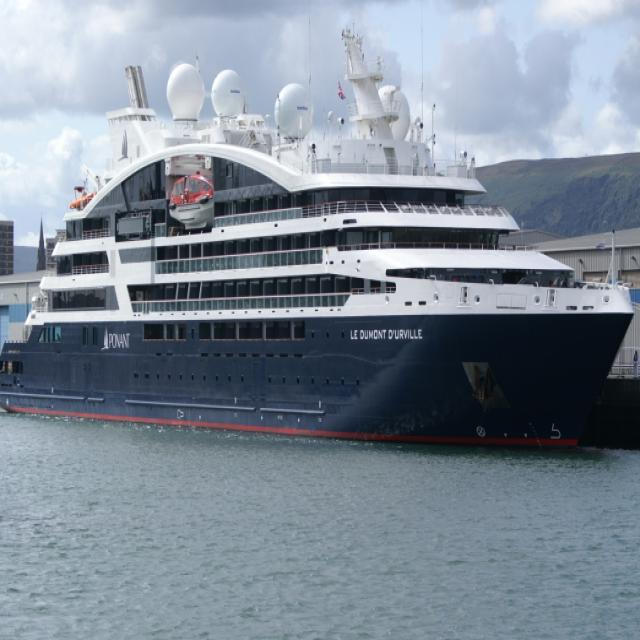cruises: (1, 29, 637, 461)
